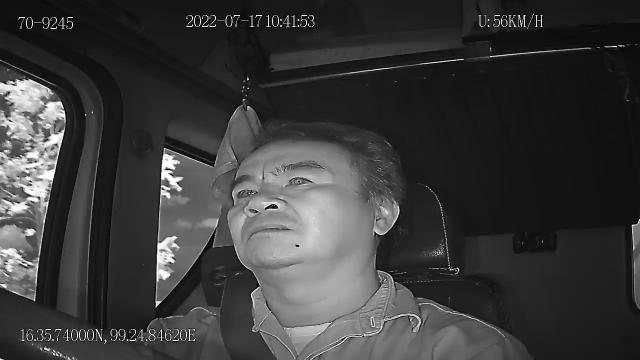SafeDriving: (280, 164, 323, 194), (227, 178, 265, 206)
Seatbelt: (217, 272, 279, 360)
